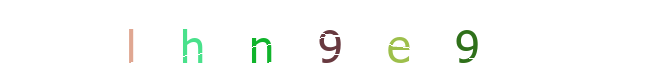9: (290, 0, 370, 80), (363, 0, 443, 80)
E: (335, 0, 415, 80)
H: (218, 0, 298, 80)
L: (153, 0, 233, 80)
N: (285, 0, 365, 80)
